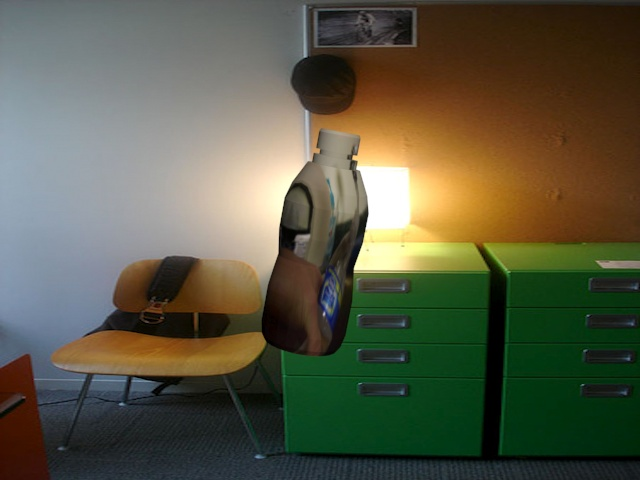bottle: (257, 128, 376, 368)
